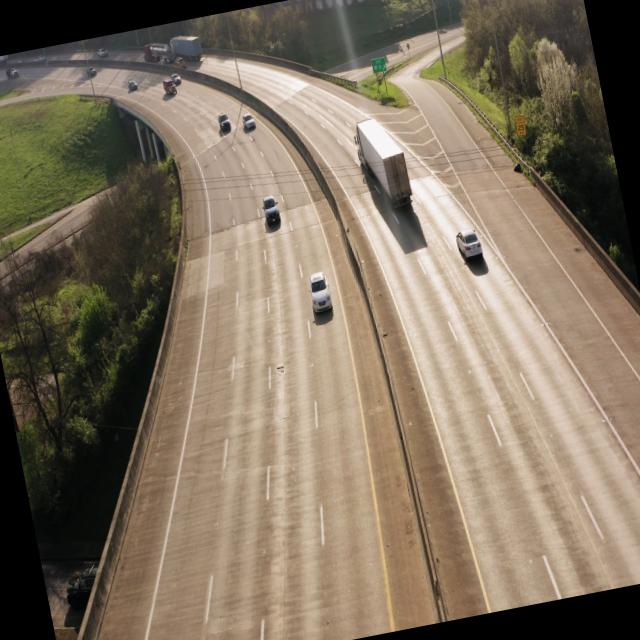Vehicle: (349, 110, 422, 225), (306, 266, 338, 324), (453, 220, 488, 272), (260, 191, 286, 234), (238, 106, 258, 136), (216, 111, 235, 137)
